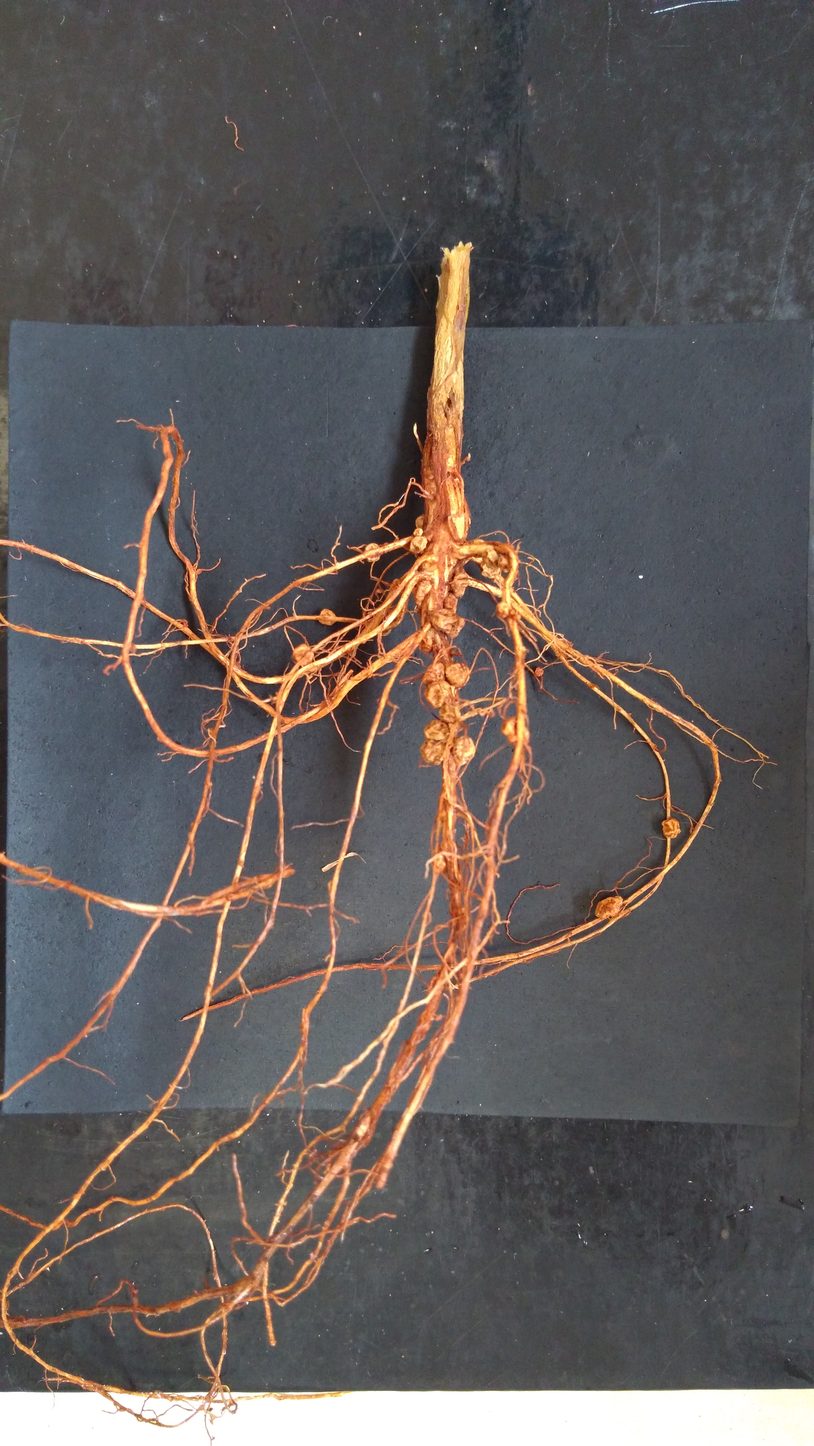nodule: (591, 891, 630, 922), (500, 716, 532, 746), (451, 734, 478, 767), (444, 658, 473, 688), (418, 739, 448, 767), (429, 608, 457, 634), (291, 642, 317, 668), (659, 815, 684, 842), (410, 579, 434, 607), (422, 718, 450, 742), (447, 568, 468, 598), (423, 681, 445, 708), (363, 539, 384, 567), (317, 604, 340, 628), (422, 662, 444, 686), (407, 533, 430, 555), (492, 599, 515, 621), (483, 546, 503, 571), (418, 628, 438, 653), (448, 613, 466, 639), (438, 703, 461, 722), (479, 561, 501, 579), (442, 592, 460, 614), (412, 509, 427, 531), (429, 855, 446, 873), (497, 553, 511, 574), (411, 525, 428, 537), (534, 666, 545, 677)
